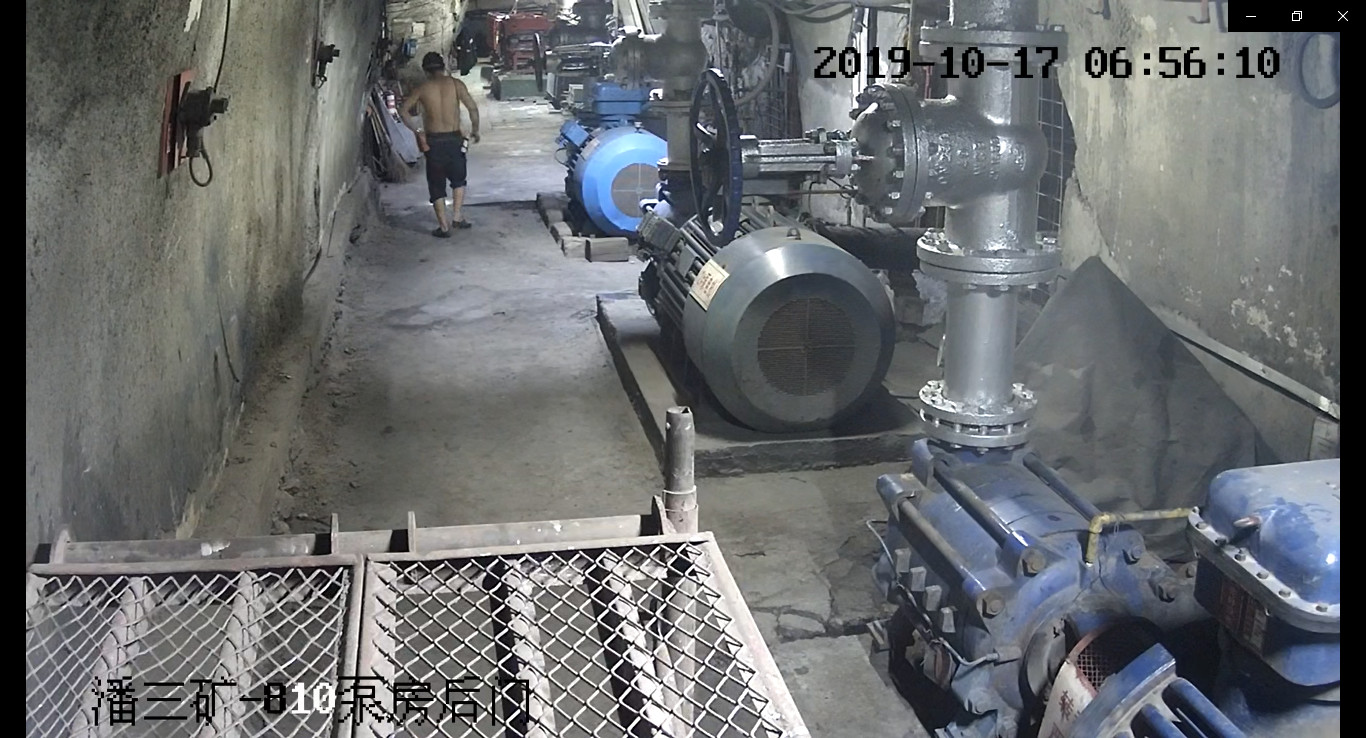helmet: (422, 50, 445, 72)
